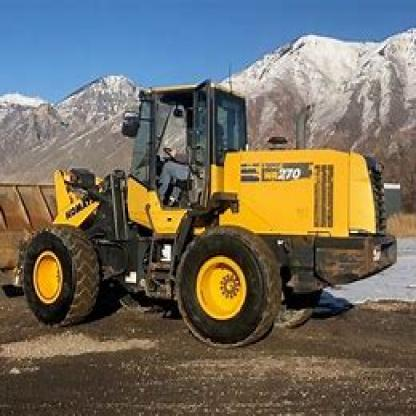bull_dozer/loader/grader: (0, 78, 403, 355)
